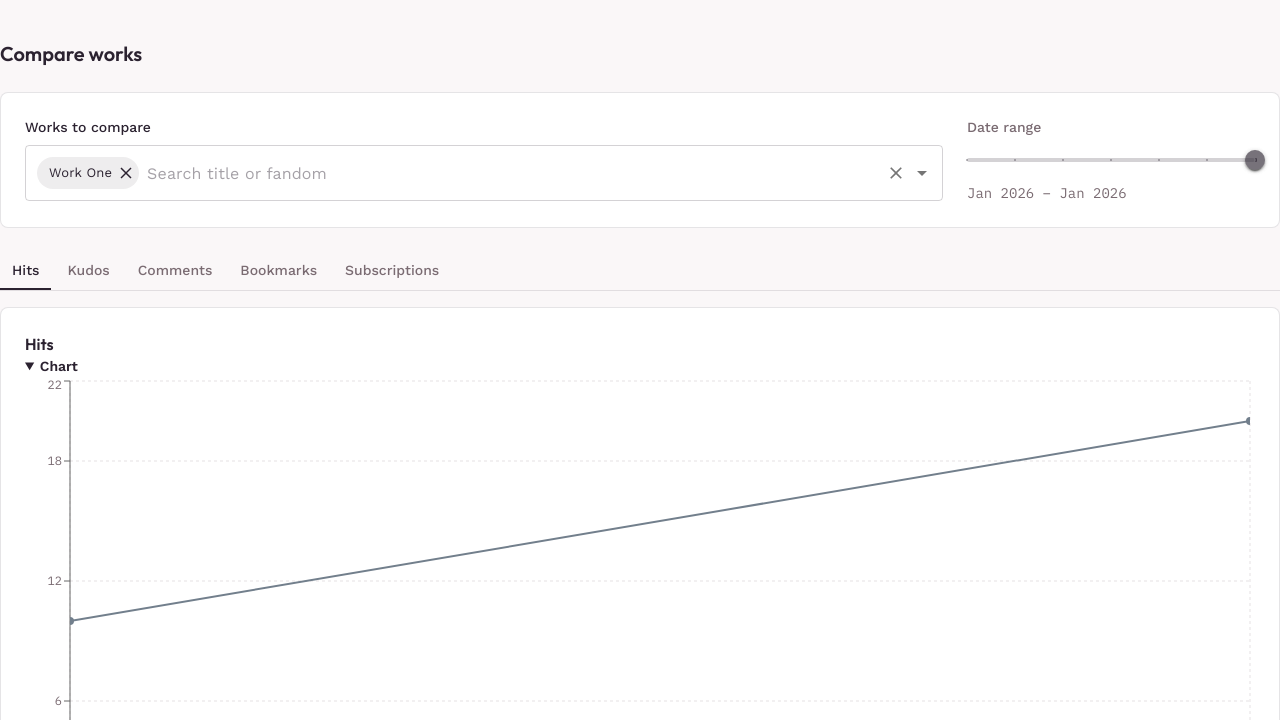
Test case: WorkComparisonSection: Bookmarks By Type › checking Public adds a 'Public bookmarks' chart without removing Total's
The width and height of the screenshot is (1280, 720).
Click the tab "Bookmarks": (279, 271) [228, 252, 329, 290]
(page scrolled)
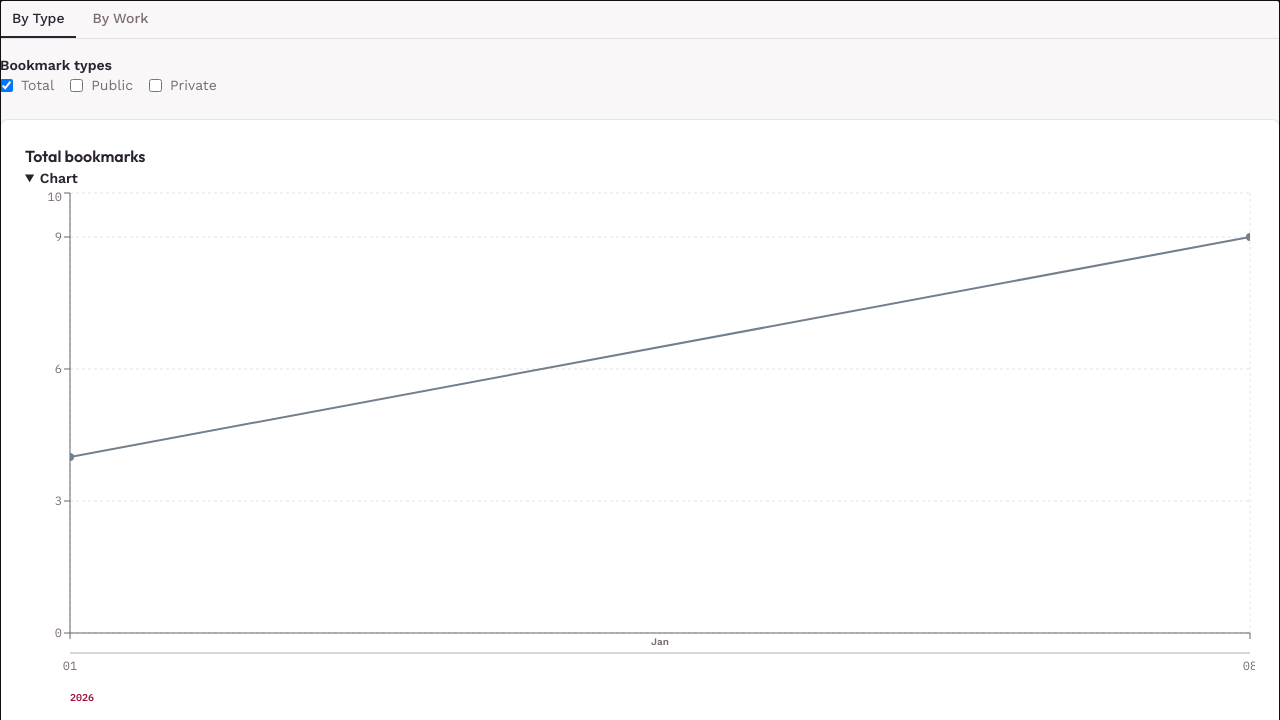
Click the checkbox labelled "Public": (77, 85) [70, 78, 83, 92]
(page scrolled)
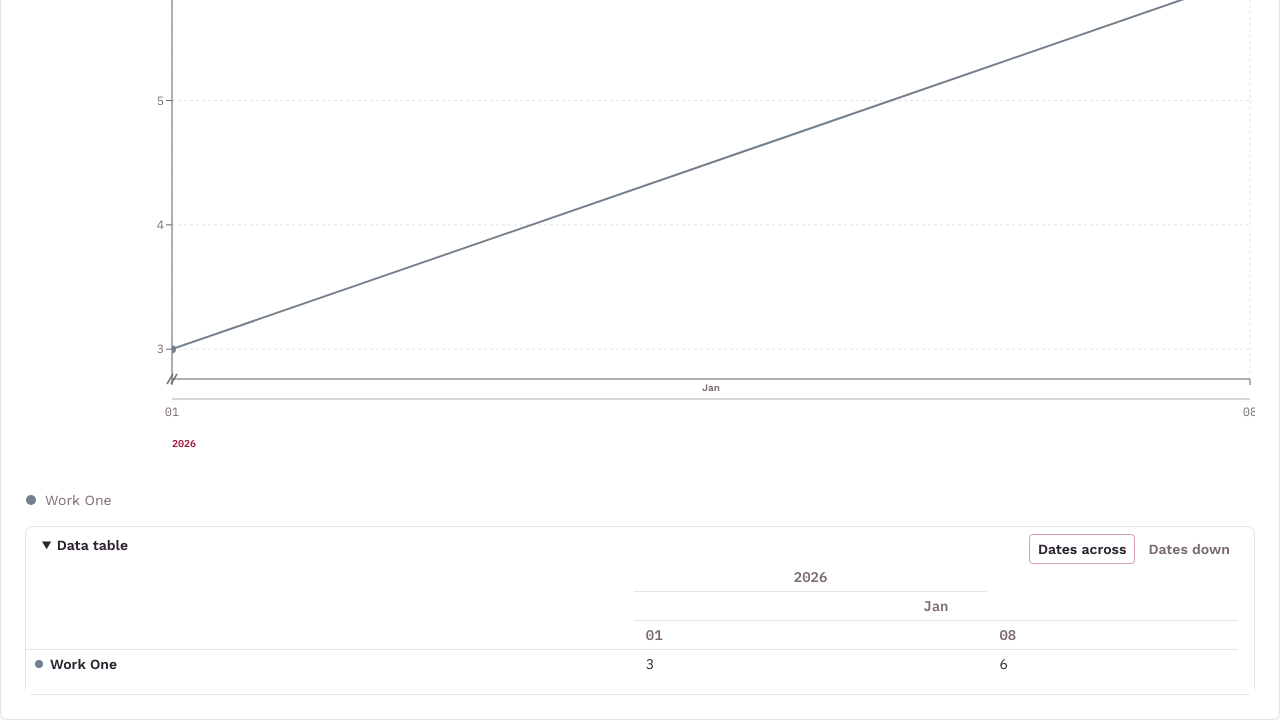
expect the 2nd text "Work One" is shown: met, box [50, 656, 117, 672]
